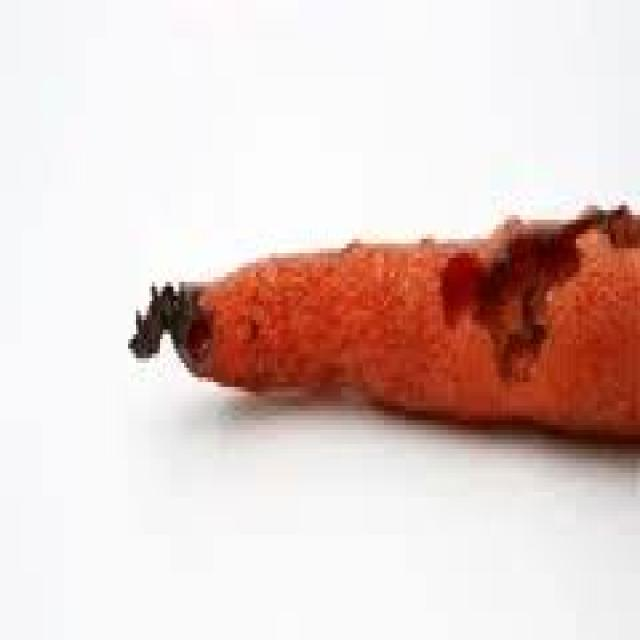Stale_Carrot: (147, 217, 640, 451)
